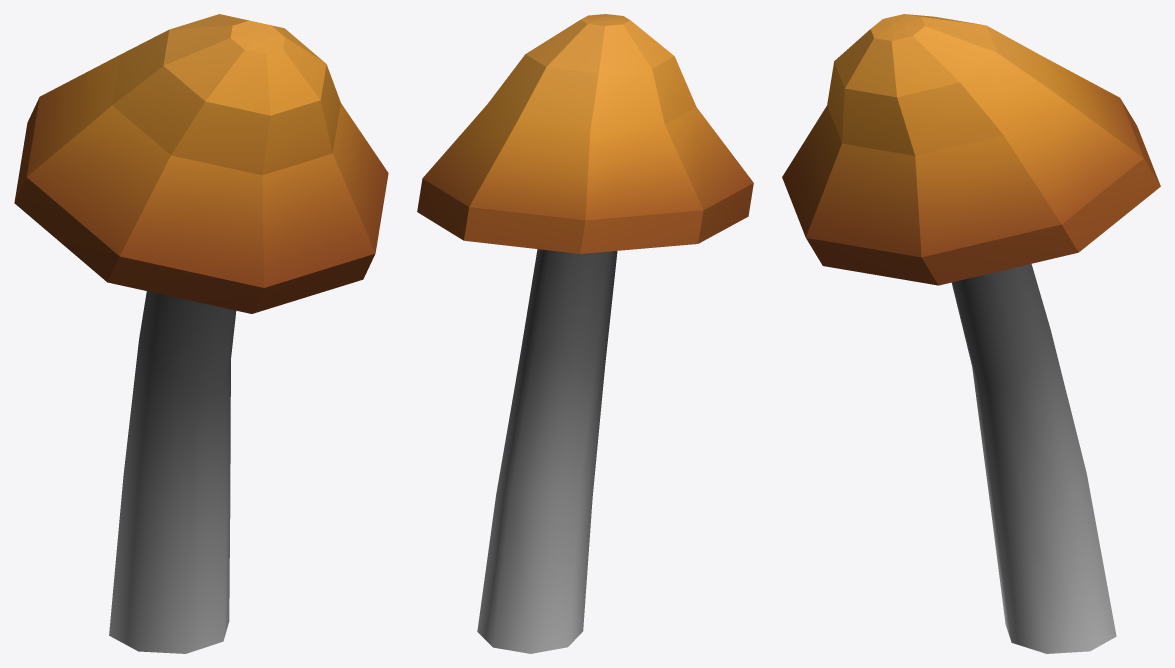
File: MushroomExtraSmallOrange.FBX
The picture shows the model from 3 angles, left to right: view 1: azimuth 30°, elevation 25°; view 2: azimuth 150°, elevation 25°; view 3: azimuth 270°, elevation 25°; orthographic projection. The views are drawn at different scales.
Parts seen in each view (by area): view 1: Cylinder060; view 2: Cylinder060; view 3: Cylinder060.
Part boxes in pixels (x1,y1,x2,y2): Cylinder060: [14, 14, 388, 653]; Cylinder060: [417, 14, 753, 653]; Cylinder060: [782, 14, 1160, 653].
Bounding box in the file's own units: 13.83 × 27.32 × 15.43.
